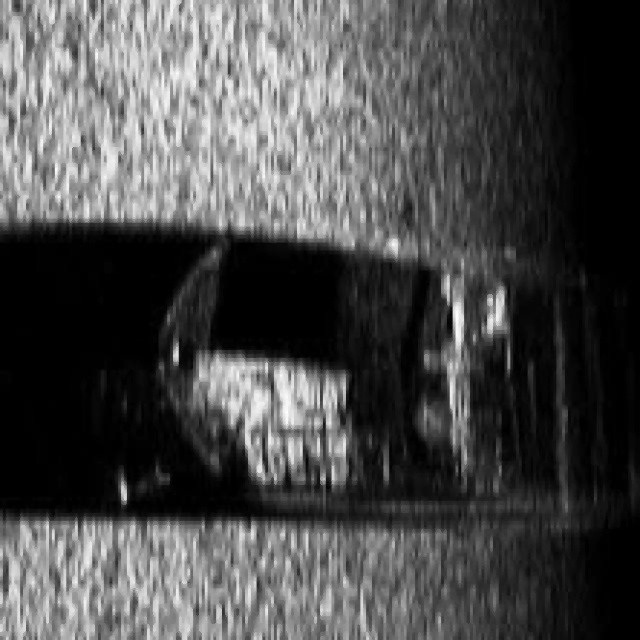Ship: (147, 224, 612, 542)
